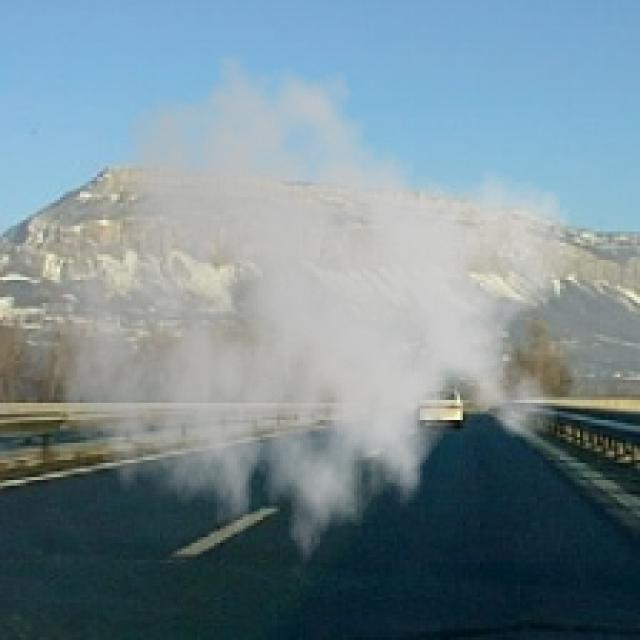Smoke: (51, 37, 578, 586)
